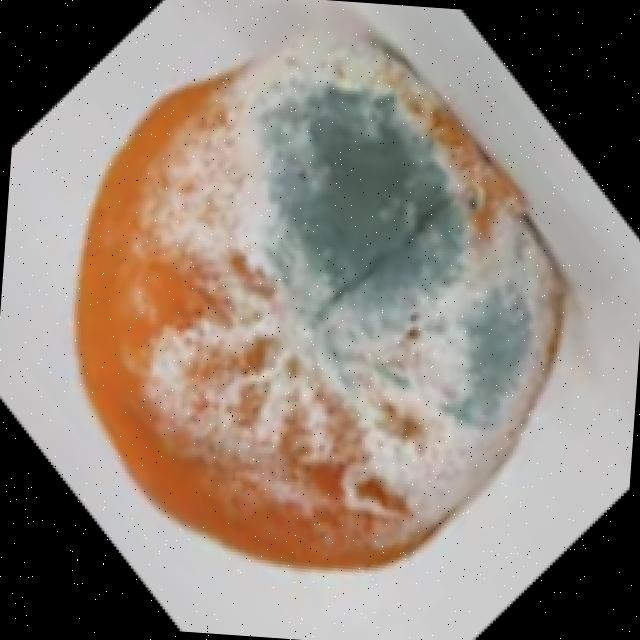Rotten: (54, 18, 581, 588)
